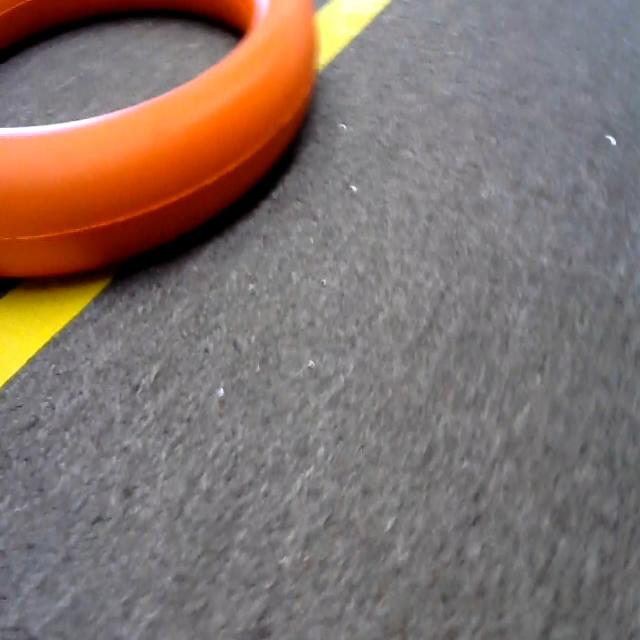note: (0, 0, 320, 279)
